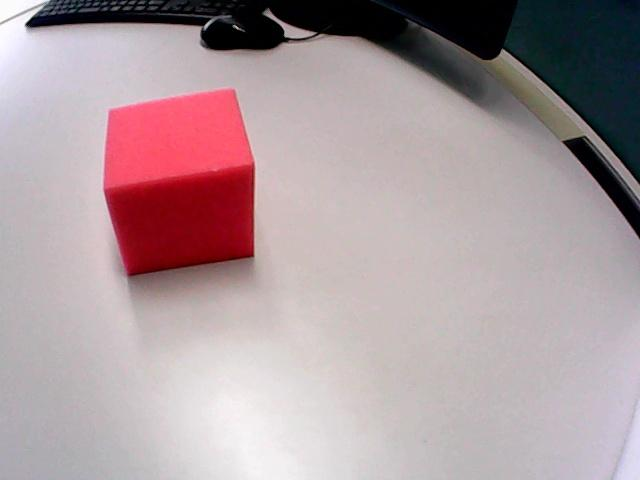red_block: (104, 89, 254, 275)
